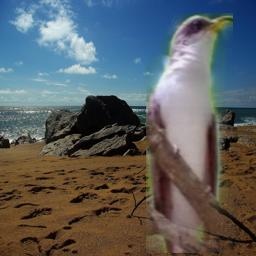Cuckoo: (146, 13, 233, 253)
